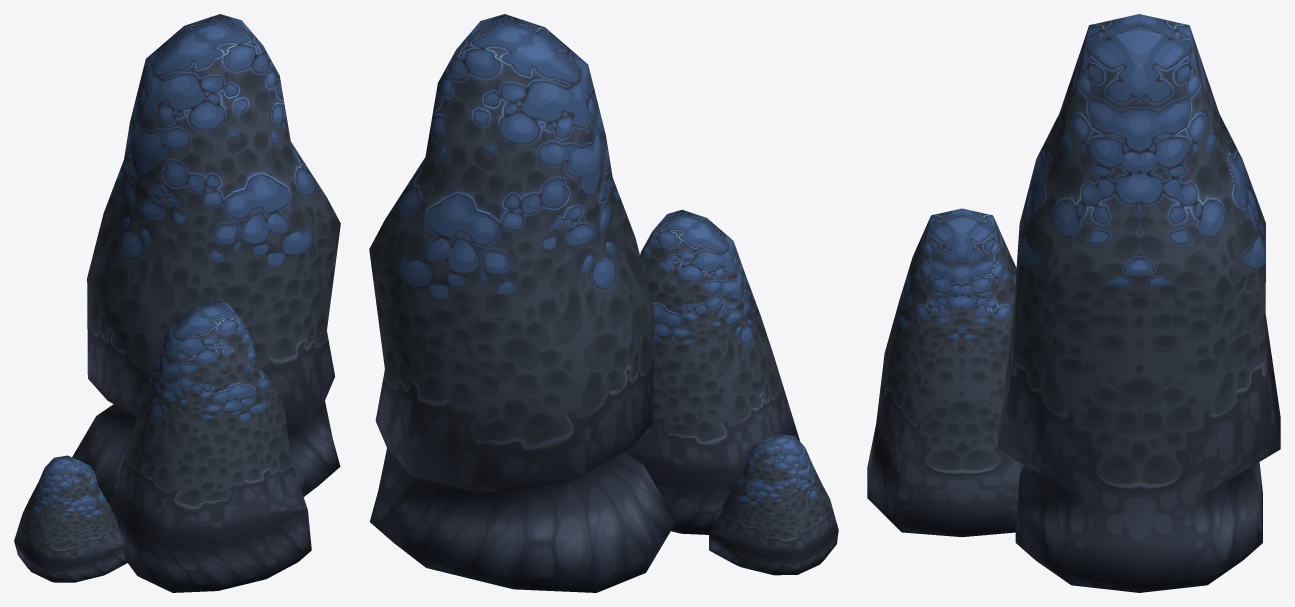
Rendered from Rock_05_Group.FBX.
3 views of the same model, side by side, from view 1: azimuth 30°, elevation 25°; view 2: azimuth 150°, elevation 25°; view 3: azimuth 270°, elevation 25° (orthographic). The views are drawn at different scales.
Parts seen in each view (by area): view 1: Rock_05_group; view 2: Rock_05_group; view 3: Rock_05_group.
Part boxes in pixels (x1=…): Rock_05_group: x1=14, y1=14, x2=340, y2=592; Rock_05_group: x1=369, y1=14, x2=838, y2=592; Rock_05_group: x1=867, y1=14, x2=1280, y2=592.
Size of the model in its own units: 299 by 383 by 271.
